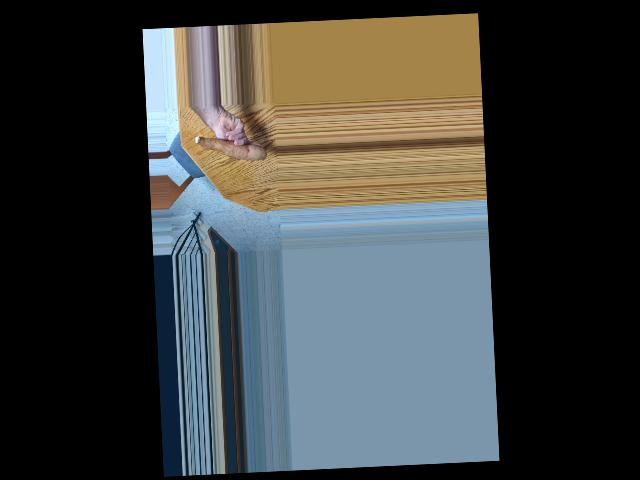sweet_potato: (192, 132, 265, 168)
